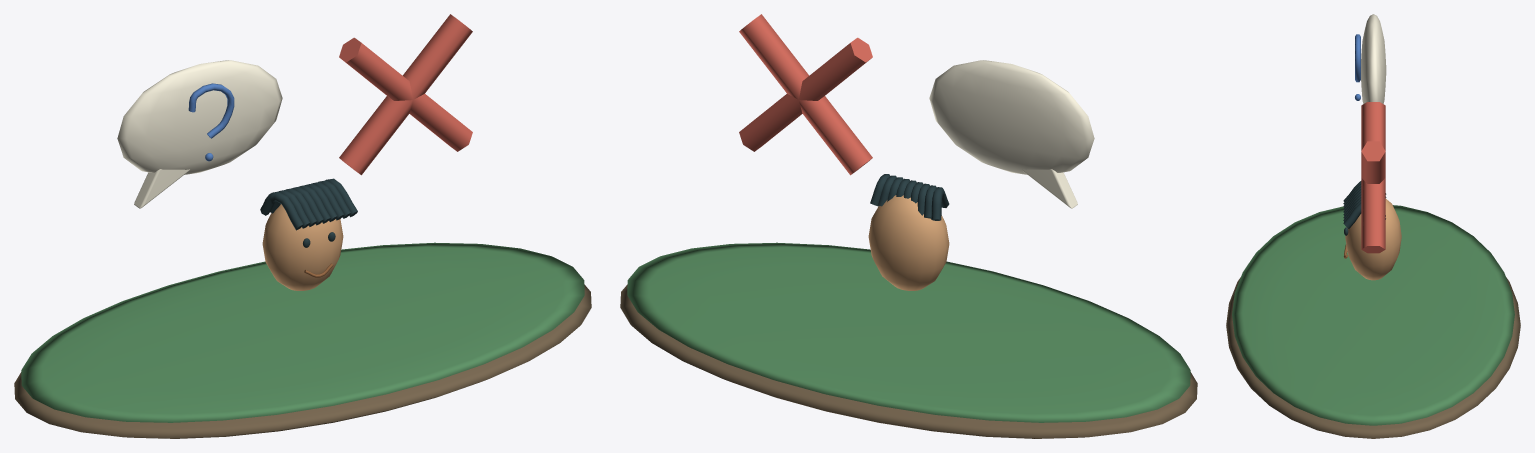
File: complete-second-asking-dislike.glb
3 renders of one model, left to right at view 1: azimuth 30°, elevation 25°; view 2: azimuth 150°, elevation 25°; view 3: azimuth 270°, elevation 25°, orthographic. The views are drawn at different scales.
Parts seen in each view (by area): view 1: complete-second-asking-dislike_surface_01, complete-second-asking-dislike_surface_02, complete-second-asking-dislike_surface_00, complete-second-asking-dislike_surface_04, complete-second-asking-dislike_surface_05, complete-second-asking-dislike_surface_06, complete-second-asking-dislike_surface_03; view 2: complete-second-asking-dislike_surface_01, complete-second-asking-dislike_surface_02, complete-second-asking-dislike_surface_00, complete-second-asking-dislike_surface_04, complete-second-asking-dislike_surface_05, complete-second-asking-dislike_surface_06; view 3: complete-second-asking-dislike_surface_01, complete-second-asking-dislike_surface_00, complete-second-asking-dislike_surface_04, complete-second-asking-dislike_surface_05, complete-second-asking-dislike_surface_02, complete-second-asking-dislike_surface_06, complete-second-asking-dislike_surface_03.
Boxes of the visible parts, left/top/right/bottom form: complete-second-asking-dislike_surface_01: left=21, top=242, right=584, bottom=422; complete-second-asking-dislike_surface_02: left=117, top=60, right=282, bottom=208; complete-second-asking-dislike_surface_00: left=14, top=284, right=591, bottom=438; complete-second-asking-dislike_surface_04: left=339, top=14, right=472, bottom=175; complete-second-asking-dislike_surface_05: left=262, top=204, right=343, bottom=290; complete-second-asking-dislike_surface_06: left=260, top=178, right=357, bottom=247; complete-second-asking-dislike_surface_03: left=188, top=83, right=234, bottom=161; complete-second-asking-dislike_surface_01: left=627, top=242, right=1190, bottom=422; complete-second-asking-dislike_surface_02: left=929, top=60, right=1094, bottom=208; complete-second-asking-dislike_surface_00: left=620, top=284, right=1197, bottom=438; complete-second-asking-dislike_surface_04: left=739, top=14, right=872, bottom=175; complete-second-asking-dislike_surface_05: left=868, top=195, right=949, bottom=290; complete-second-asking-dislike_surface_06: left=870, top=174, right=949, bottom=220; complete-second-asking-dislike_surface_01: left=1232, top=205, right=1514, bottom=425; complete-second-asking-dislike_surface_00: left=1226, top=277, right=1520, bottom=438; complete-second-asking-dislike_surface_04: left=1361, top=102, right=1385, bottom=253; complete-second-asking-dislike_surface_05: left=1345, top=199, right=1401, bottom=280; complete-second-asking-dislike_surface_02: left=1361, top=14, right=1386, bottom=103; complete-second-asking-dislike_surface_06: left=1343, top=181, right=1386, bottom=235; complete-second-asking-dislike_surface_03: left=1355, top=34, right=1360, bottom=100.
Bounding box in the file's own units: 4.56 × 2.55 × 2.5.
